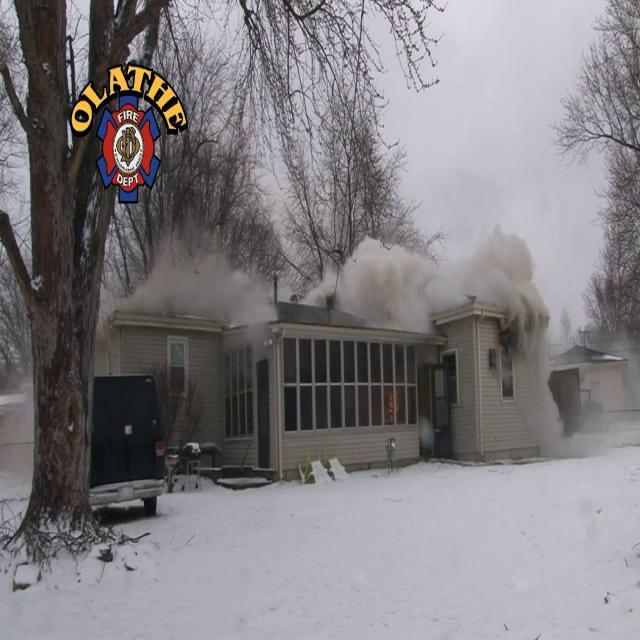Smoke: (138, 162, 552, 378)
